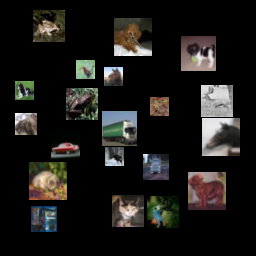airplane: (13, 18, 42, 47)
automobile: (13, 216, 45, 248), (68, 68, 94, 94), (200, 12, 222, 34)
bird: (142, 135, 177, 170), (71, 1, 97, 27), (193, 122, 215, 144), (26, 64, 48, 86)
cat: (101, 32, 139, 70), (88, 99, 120, 131)
deer: (171, 200, 197, 226)
dog: (187, 37, 216, 66)
ship: (112, 181, 141, 210), (204, 145, 233, 174), (49, 162, 75, 188), (69, 132, 95, 158)
